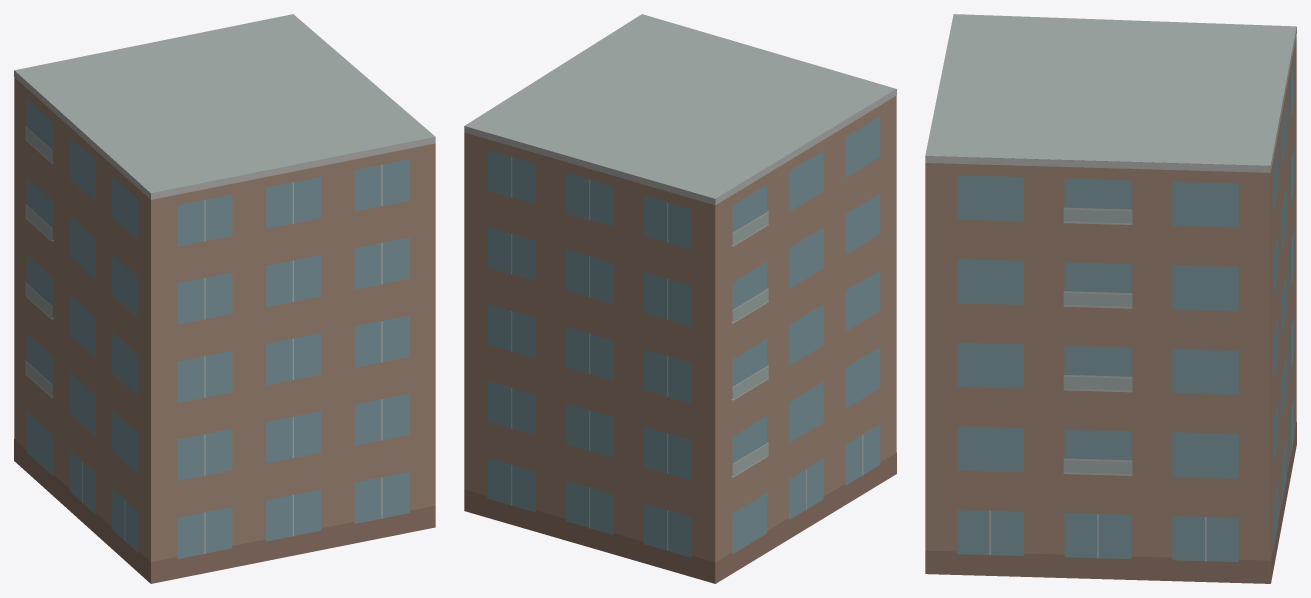
File: survey-upis-32869561.glb
3 views of the same model, side by side, from view 1: azimuth 30°, elevation 25°; view 2: azimuth 150°, elevation 25°; view 3: azimuth 270°, elevation 25° (orthographic). The views are drawn at different scales.
Parts seen in each view (by area): view 1: survey-upis-32869561.tmp; view 2: survey-upis-32869561.tmp; view 3: survey-upis-32869561.tmp.
Part boxes in pixels (x1,y1,x2,y2): survey-upis-32869561.tmp: (14, 14, 435, 583); survey-upis-32869561.tmp: (464, 14, 896, 583); survey-upis-32869561.tmp: (925, 14, 1296, 583).
Size of the model in its own units: 11.26 by 14.45 by 11.65.
